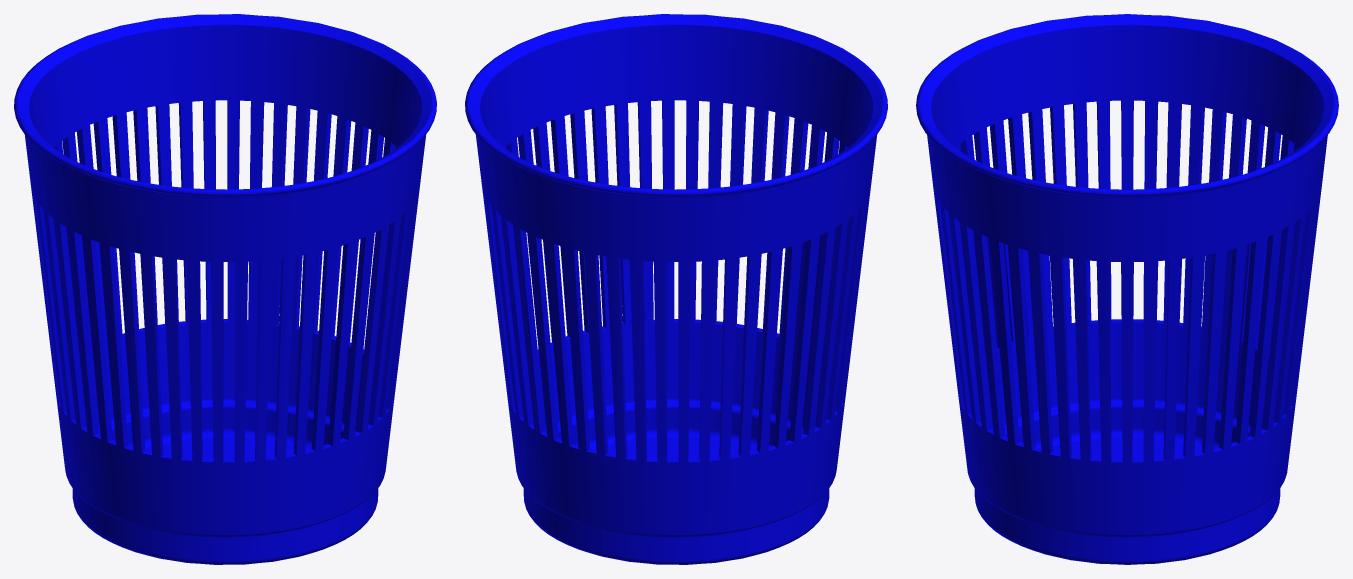
The model's file is wastepaper-basket.fbx.
3 views of the same model, side by side, from view 1: azimuth 30°, elevation 25°; view 2: azimuth 150°, elevation 25°; view 3: azimuth 270°, elevation 25° (orthographic).
Visible parts, largest first — view 1: basket_blue; view 2: basket_blue; view 3: basket_blue.
Boxes of the visible parts, x1,y1,x2,y2 form: basket_blue: (14, 14, 436, 564); basket_blue: (465, 14, 887, 564); basket_blue: (916, 14, 1338, 564).
Size of the model in its own units: 0.2908 by 0.3039 by 0.2908.
